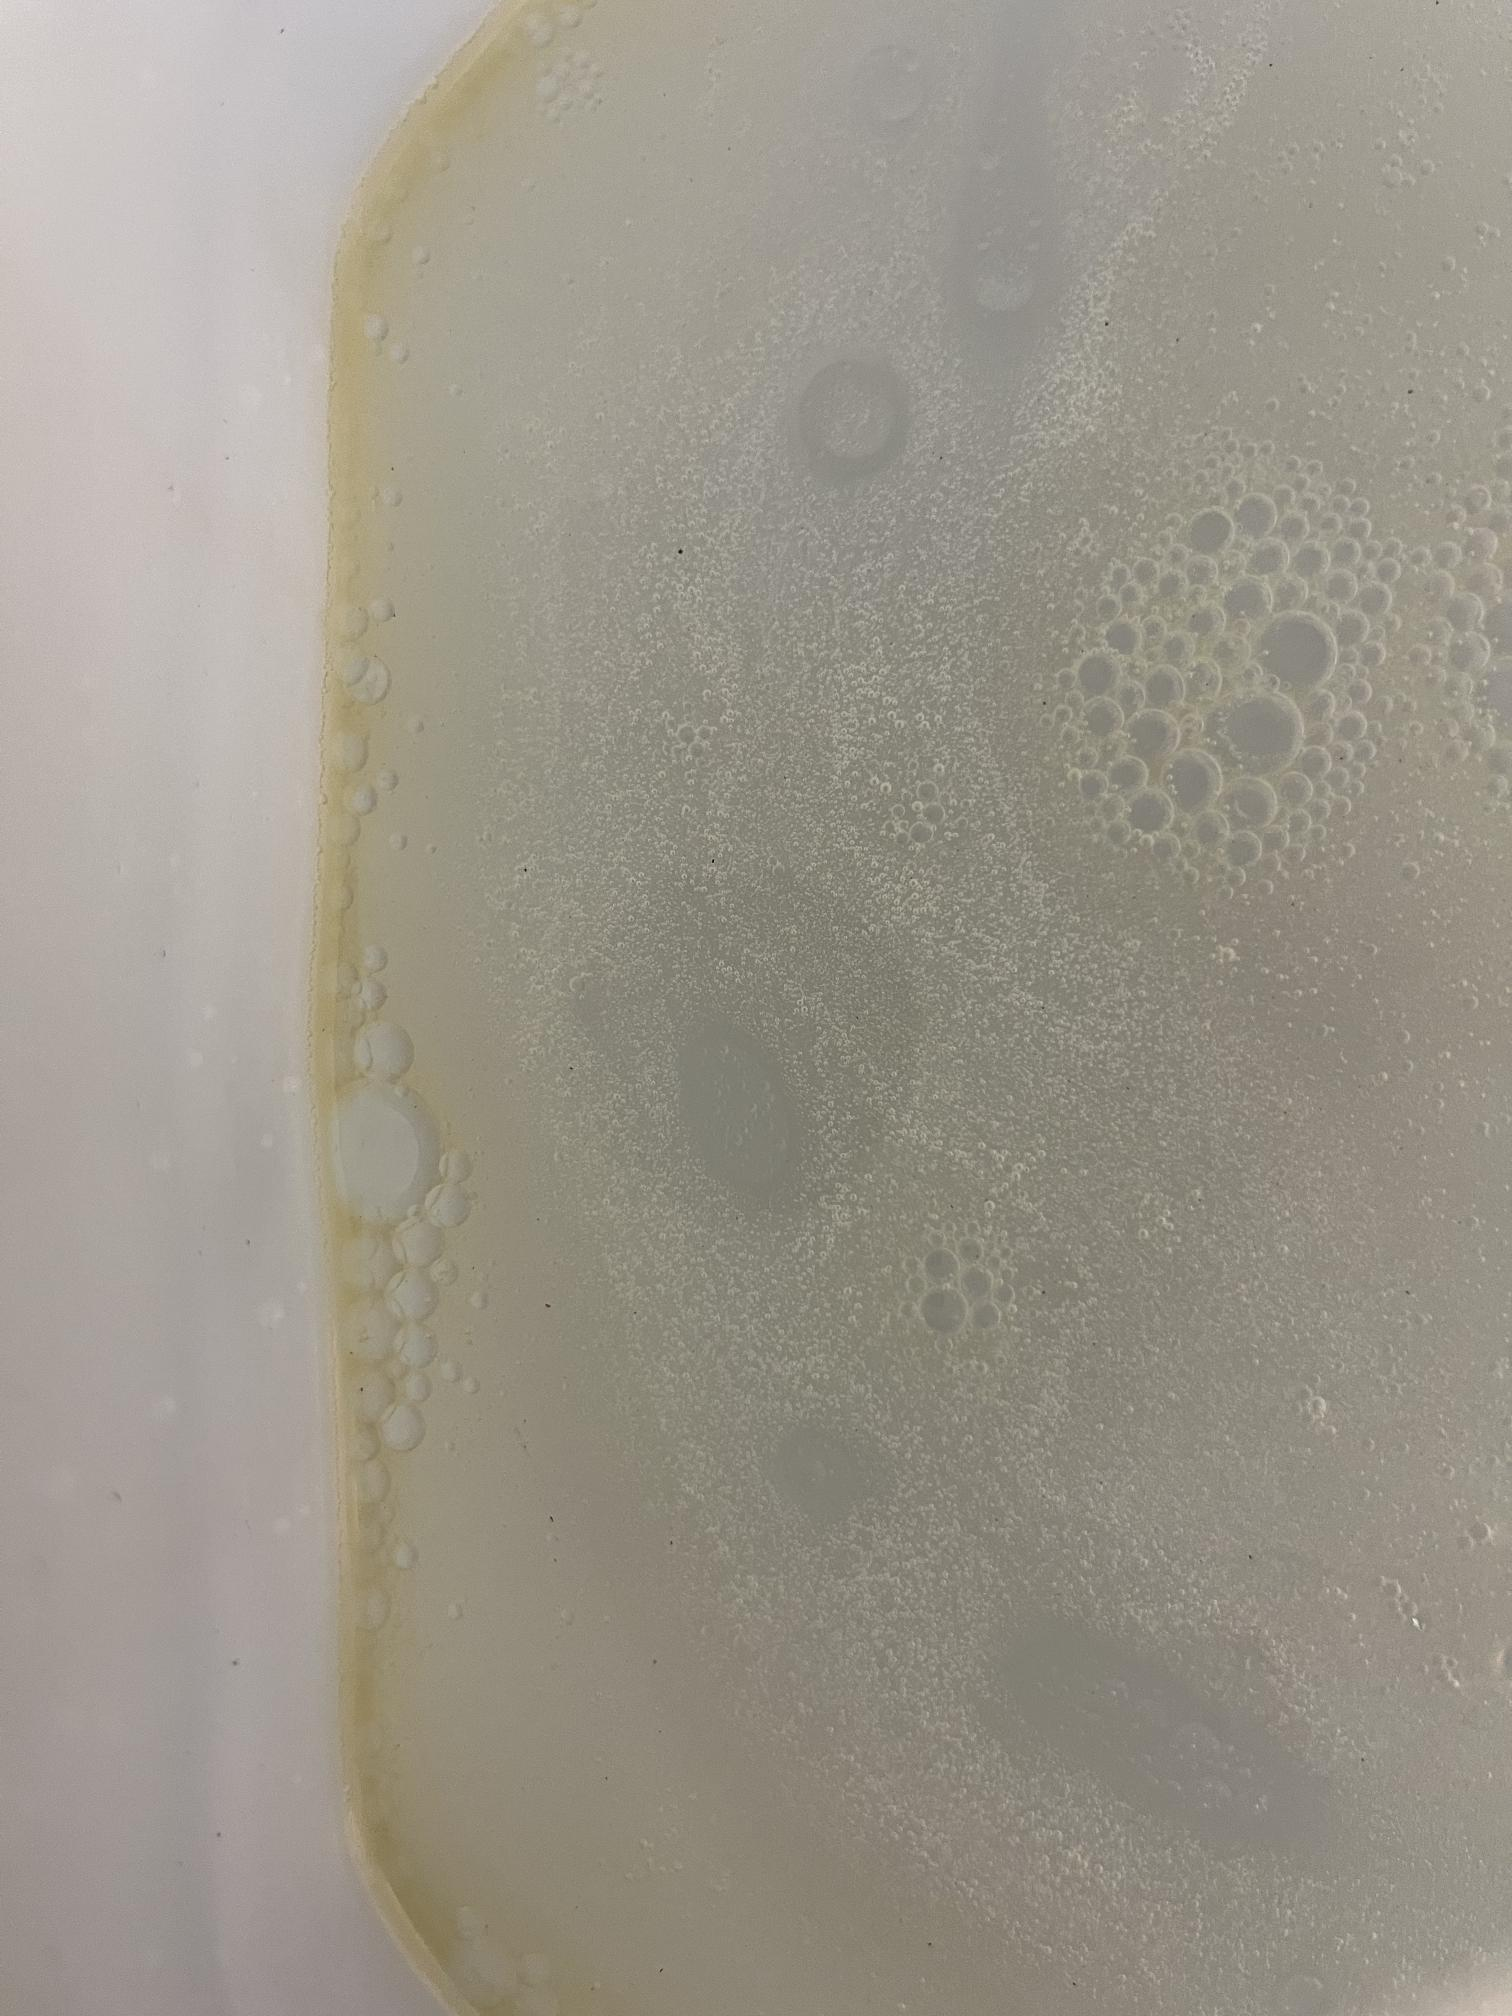Presenca de Oleo - - 70ml: (191, 70, 1385, 1984)
